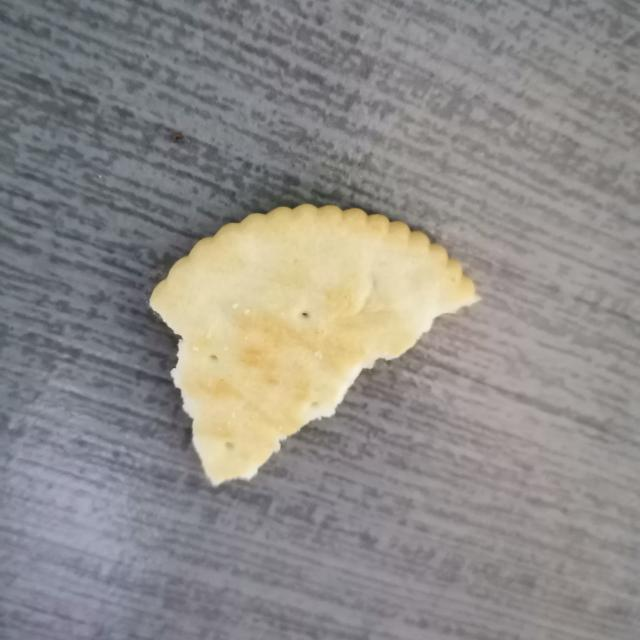Broken: (148, 201, 482, 487)
